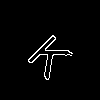K: (25, 25, 81, 81)
